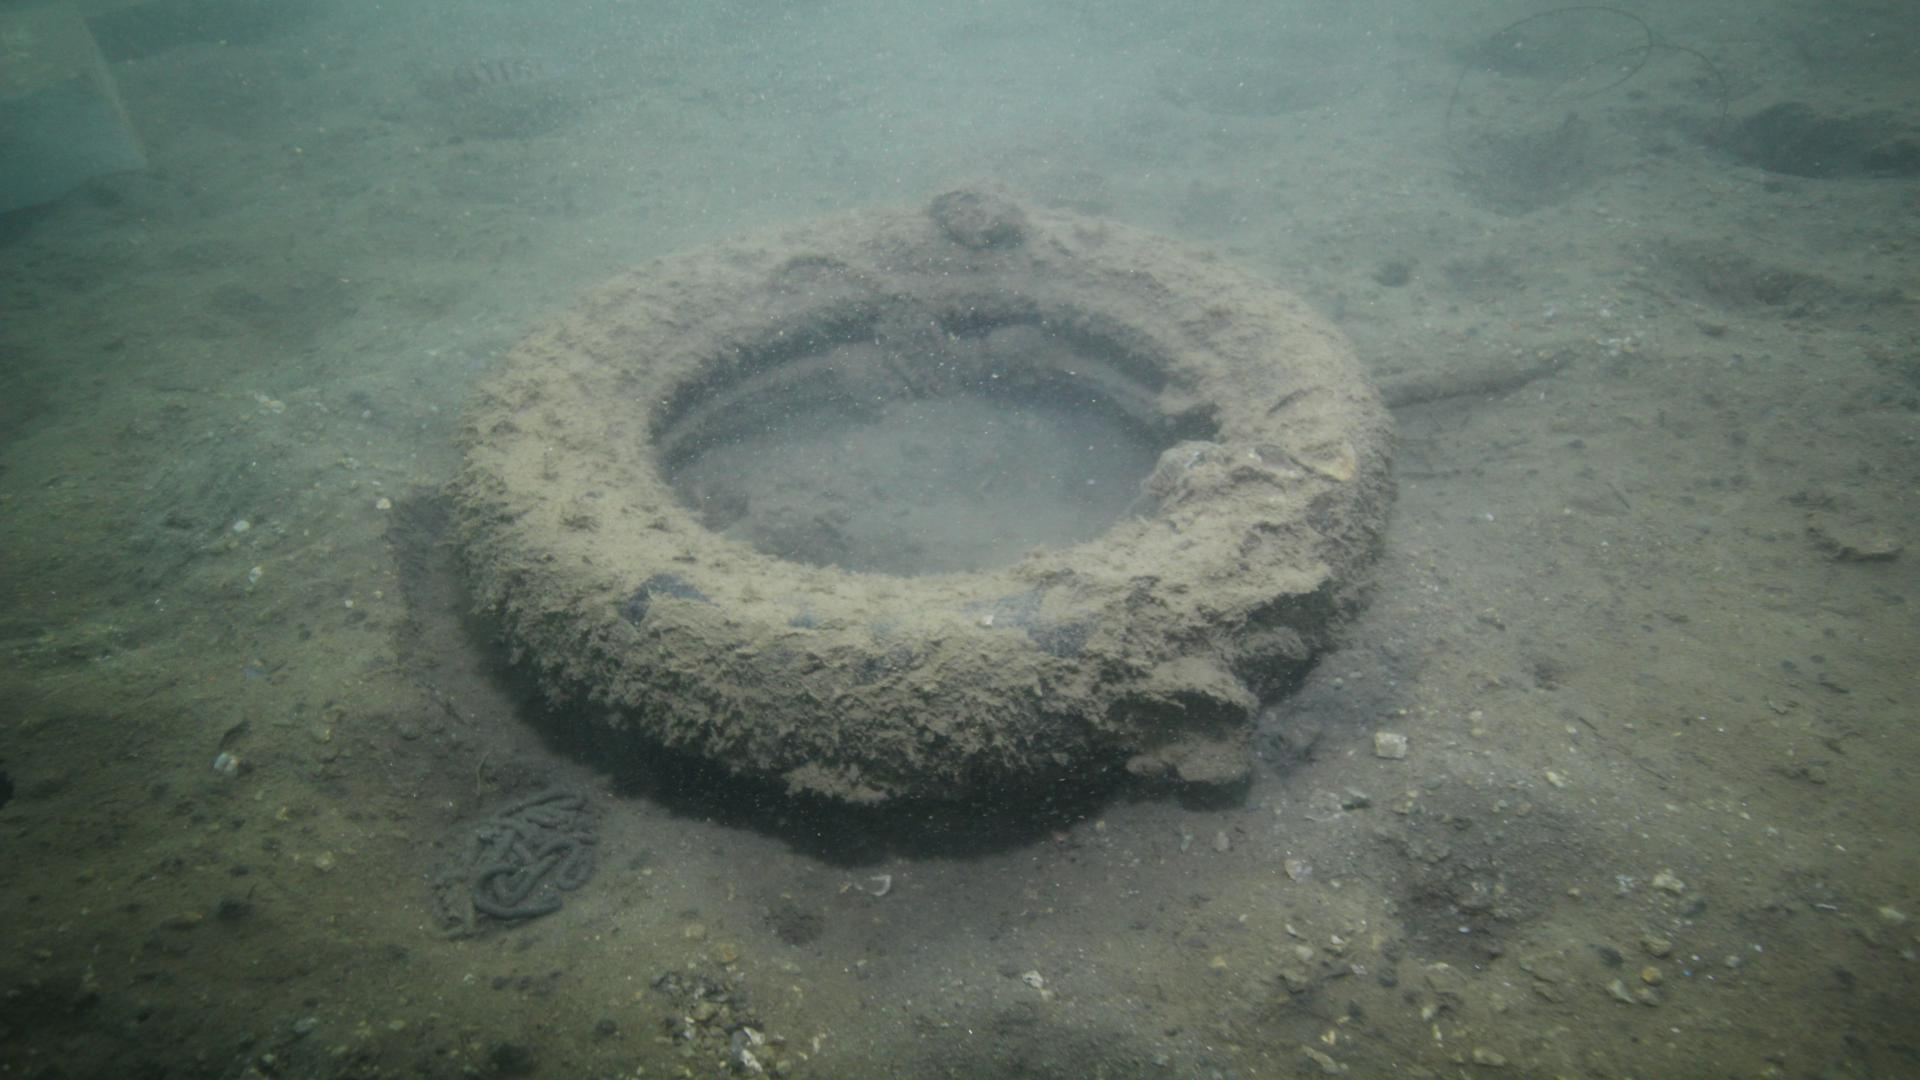tire: (459, 193, 1396, 811)
